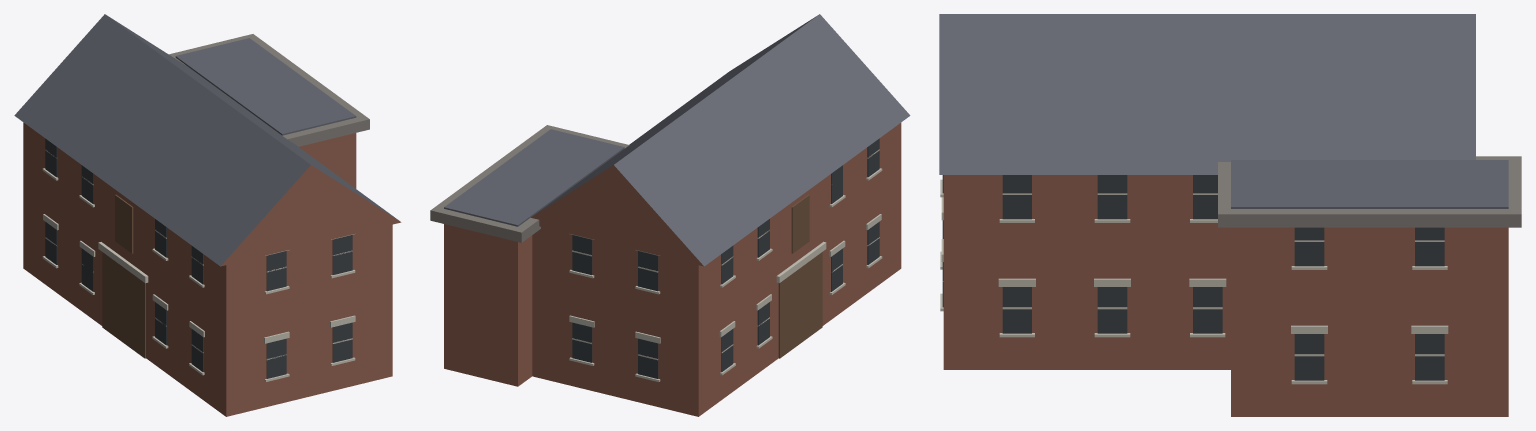
Rendered from jones_house_1834_prairie_coach_house__draft_1904.glb.
3 views of the same model, side by side, from view 1: azimuth 30°, elevation 25°; view 2: azimuth 150°, elevation 25°; view 3: azimuth 270°, elevation 25° (orthographic). The views are drawn at different scales.
Parts seen in each view (by area): view 1: jones_house_1834_prairie_coach_house__draft_1904; view 2: jones_house_1834_prairie_coach_house__draft_1904; view 3: jones_house_1834_prairie_coach_house__draft_1904.
Boxes of the visible parts, x1=… form: jones_house_1834_prairie_coach_house__draft_1904: x1=14, y1=14, x2=401, y2=416; jones_house_1834_prairie_coach_house__draft_1904: x1=430, y1=14, x2=910, y2=416; jones_house_1834_prairie_coach_house__draft_1904: x1=939, y1=14, x2=1521, y2=416.
Size of the model in its own units: 10.4 by 9.03 by 15.72.
